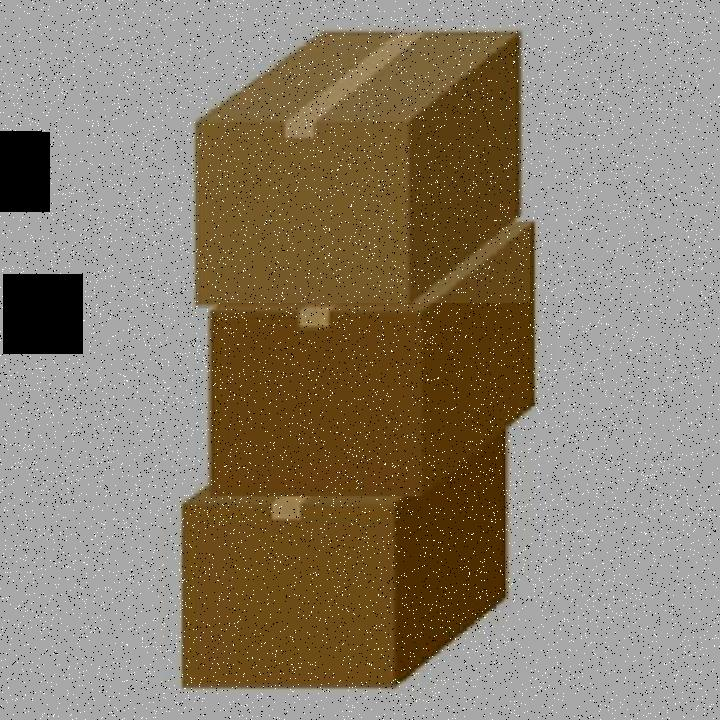box: (183, 28, 530, 303)
